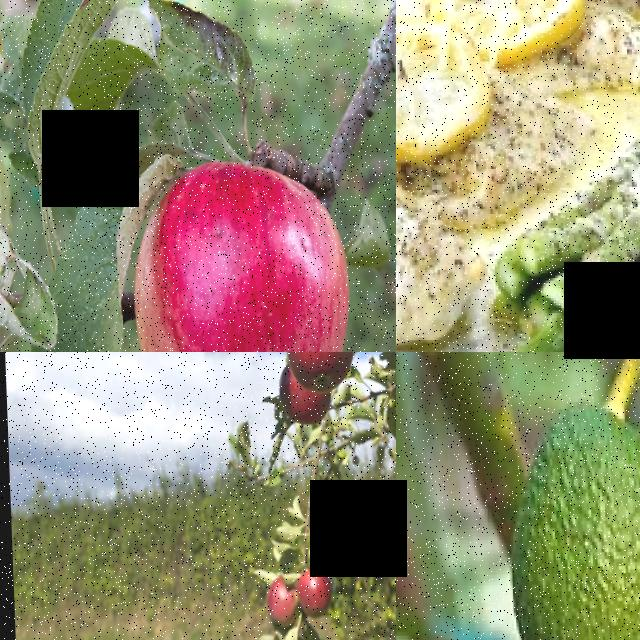apple: (122, 150, 355, 352), (271, 366, 327, 433), (280, 352, 353, 394), (259, 567, 295, 640), (290, 563, 331, 622)
avocado: (491, 405, 640, 640)
